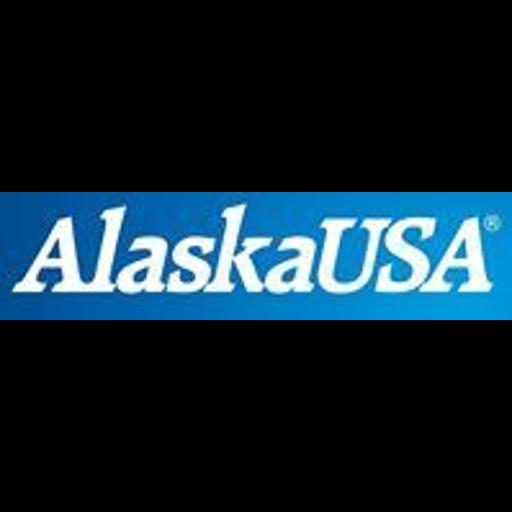Alaska USA Federal Credit Union: (0, 192, 512, 320)
